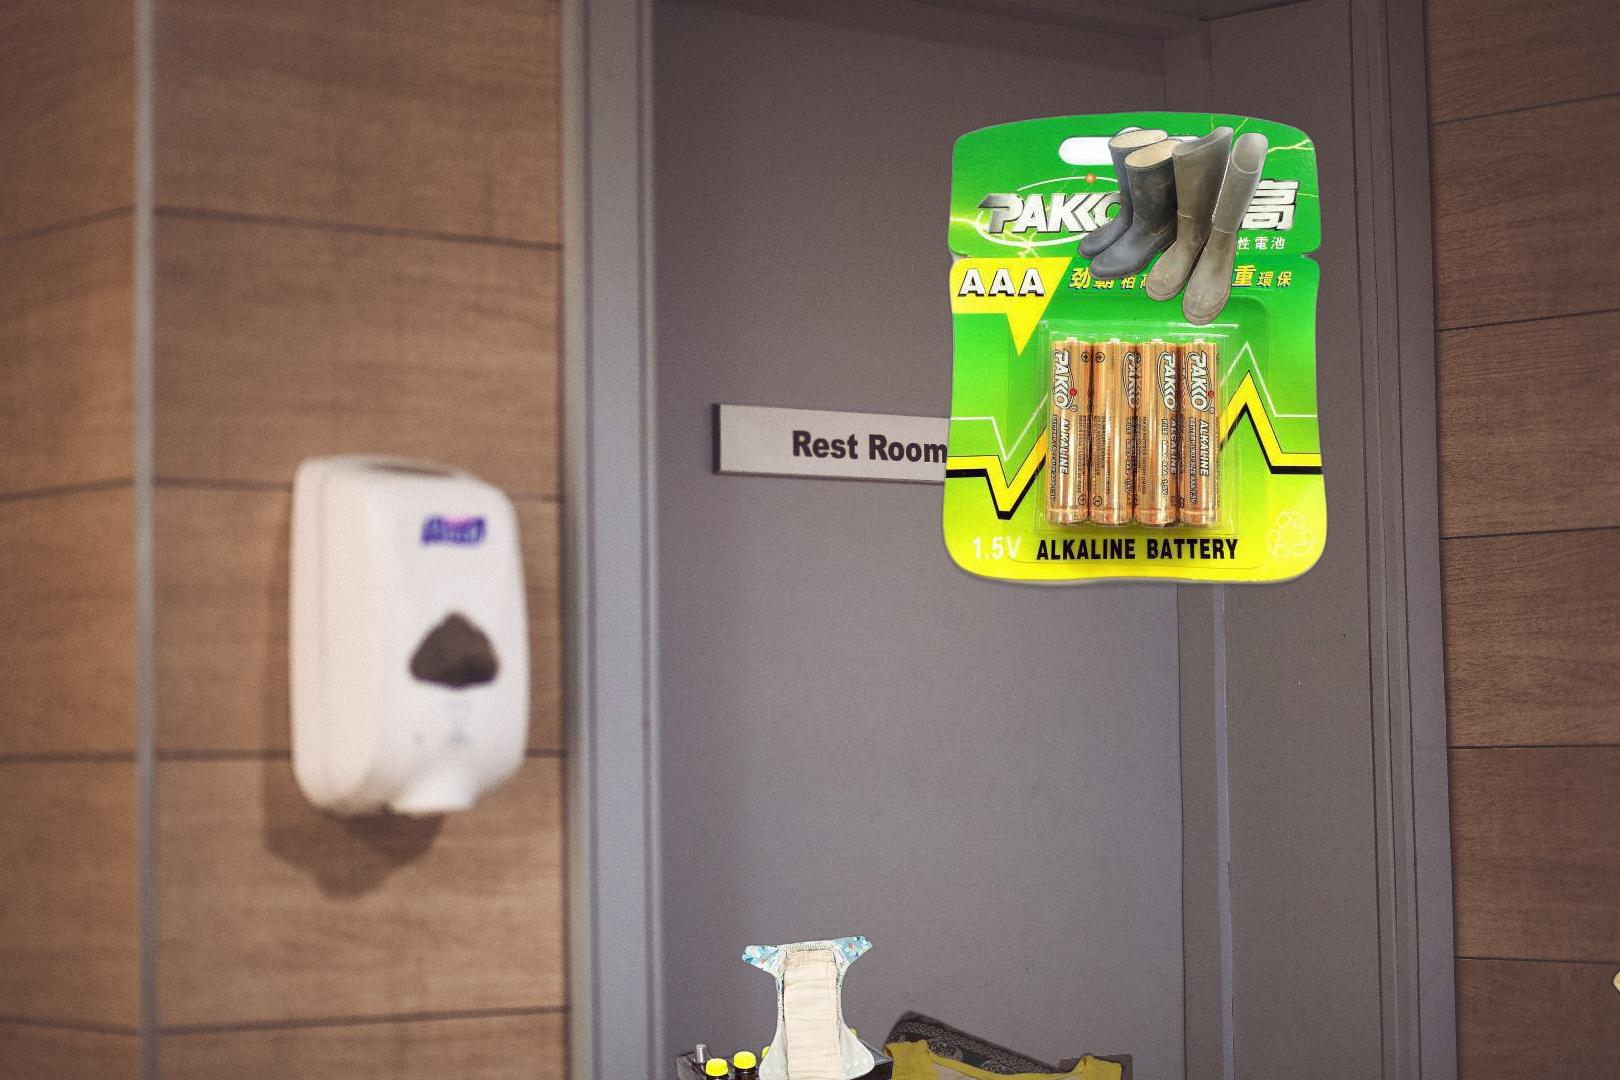battery: (938, 106, 1331, 614), (673, 1010, 896, 1080)
clothes: (814, 1004, 1207, 1080)
paper-bag: (1609, 837, 1620, 1060)
shoes: (1074, 125, 1268, 328)
trash: (738, 933, 877, 1080)
